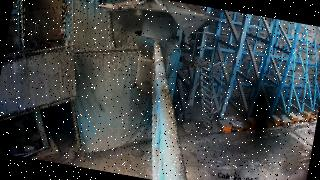swing_chute: (135, 32, 179, 102)
